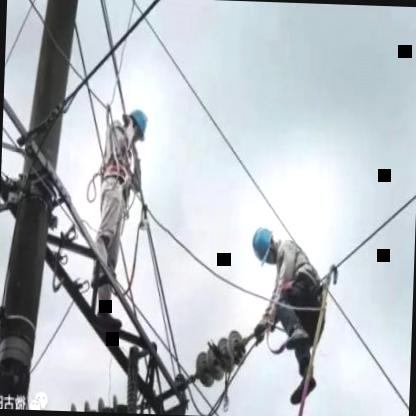helmet: (249, 221, 280, 265), (124, 102, 152, 148)
